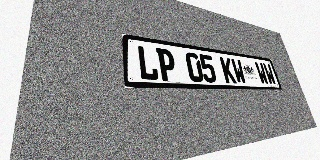0: (185, 52, 204, 82)
5: (199, 54, 217, 83)
K: (219, 57, 237, 83)
L: (137, 45, 159, 81)
P: (156, 48, 177, 81)
W: (230, 58, 247, 84), (254, 62, 269, 85), (262, 63, 277, 85)
